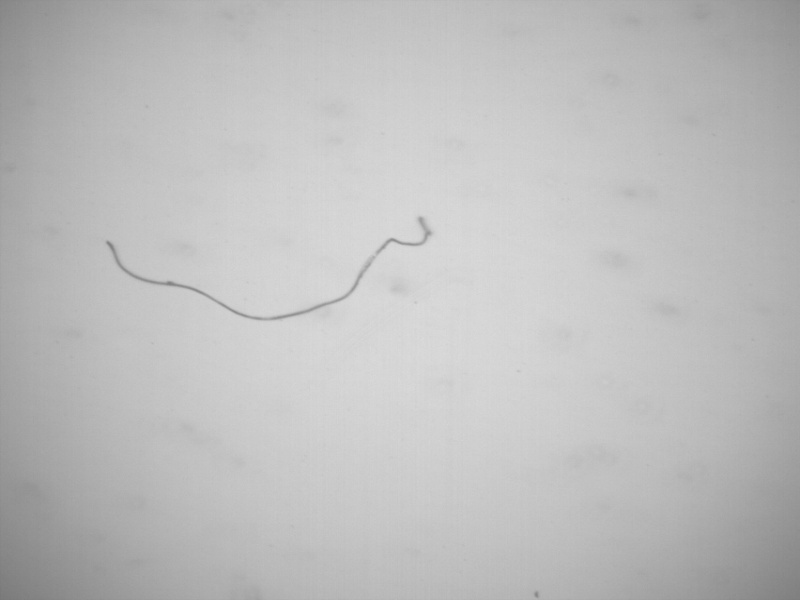fiber: (102, 213, 436, 326)
